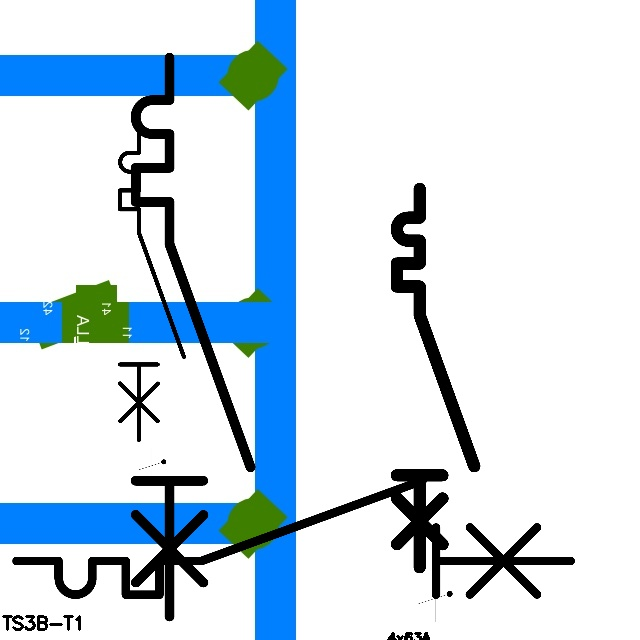interruptor_termomagnetico: (121, 43, 265, 631), (2, 466, 584, 609), (387, 179, 484, 577), (112, 121, 192, 448)
